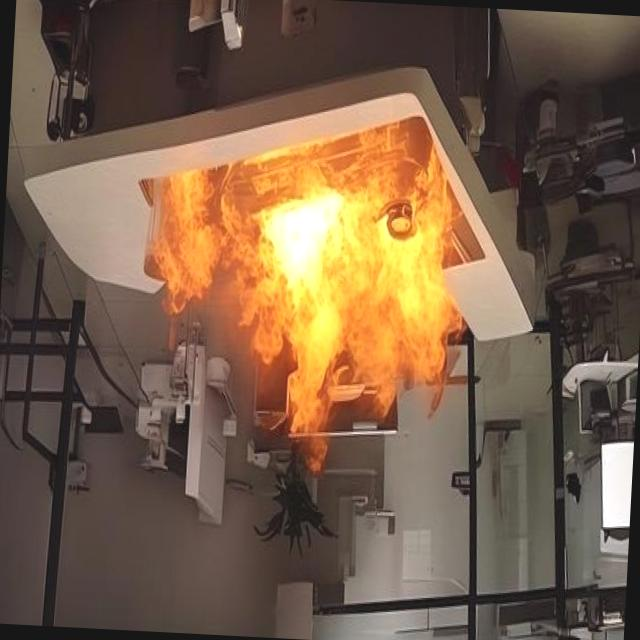fire: (140, 92, 483, 470)
